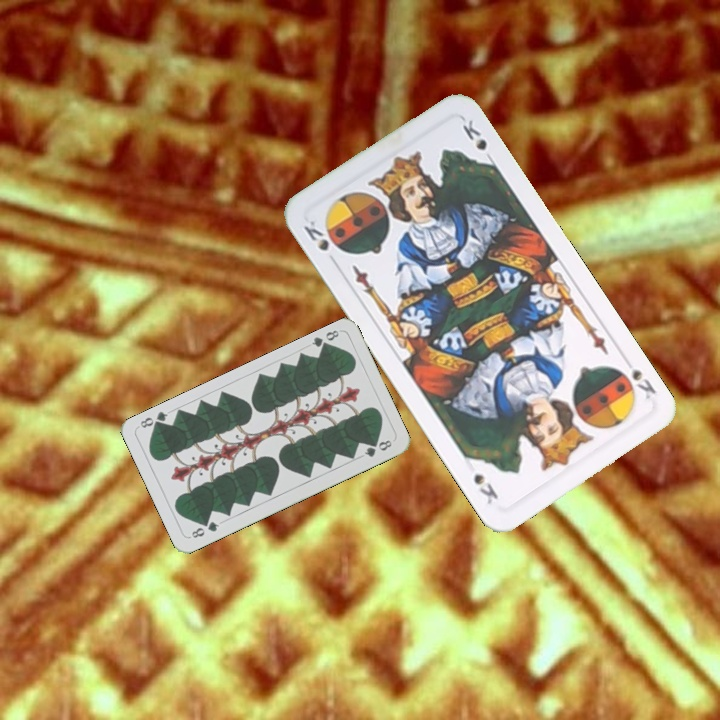G8: (307, 326, 342, 353), (187, 517, 222, 541)
SK: (611, 362, 659, 403), (299, 216, 332, 254)
